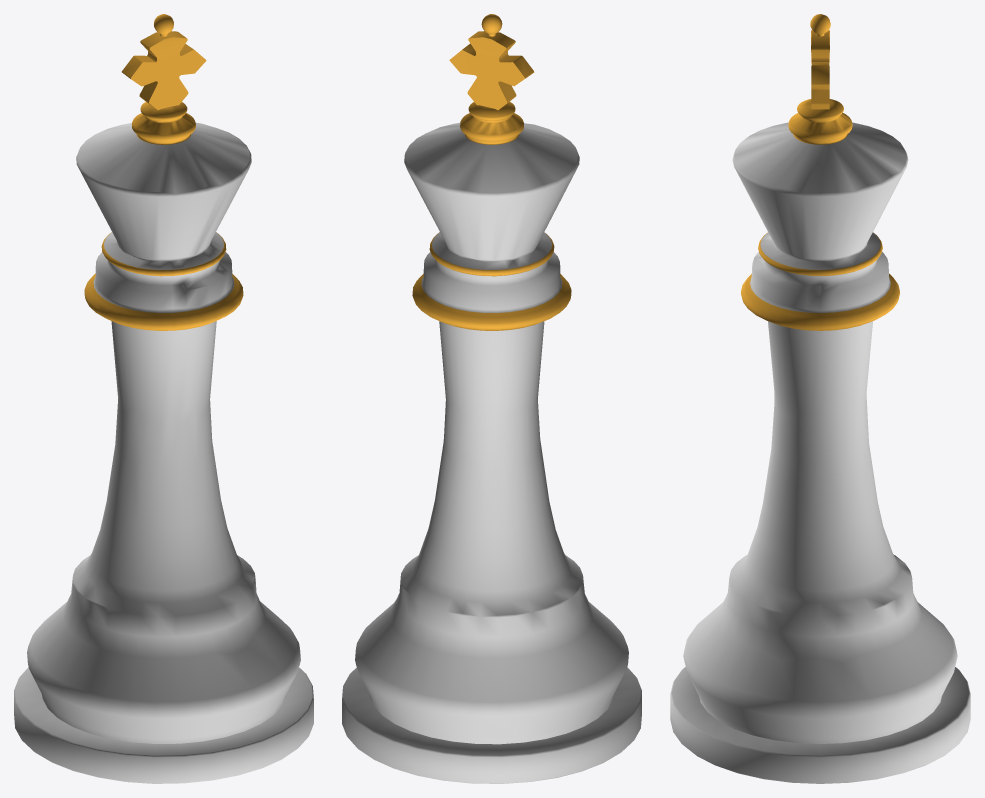
The model's file is gercek6_k_w.glb.
The picture shows the model from 3 angles, left to right: view 1: azimuth 30°, elevation 25°; view 2: azimuth 150°, elevation 25°; view 3: azimuth 270°, elevation 25°; orthographic projection.
Visible parts, largest first — view 1: k_w_0, k_w_1; view 2: k_w_0, k_w_1; view 3: k_w_0, k_w_1.
Part boxes in pixels (<box>): k_w_0: <box>14,122,313,783</box>; k_w_1: <box>84,14,243,330</box>; k_w_0: <box>342,122,641,783</box>; k_w_1: <box>412,14,571,330</box>; k_w_0: <box>670,122,970,783</box>; k_w_1: <box>741,14,899,330</box>.
Size of the model in its own units: 0.3467 by 0.8998 by 0.3467.
